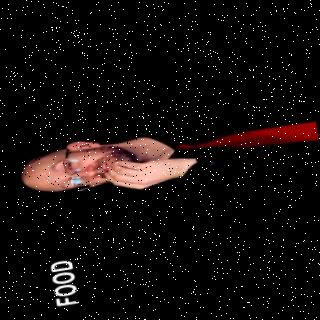Food: (9, 72, 320, 224)
